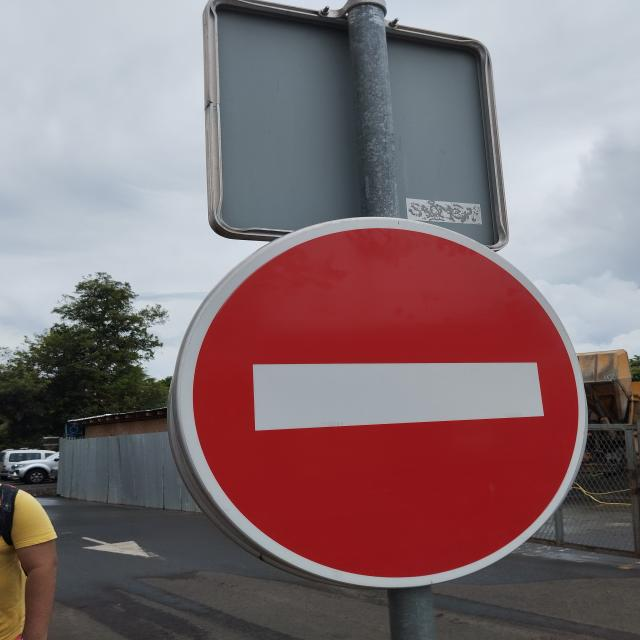Sens-Interdit: (180, 215, 590, 591)
